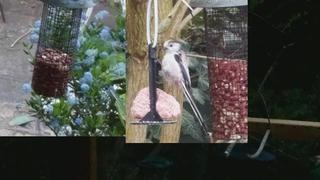long tailed tit: (157, 40, 208, 133)
